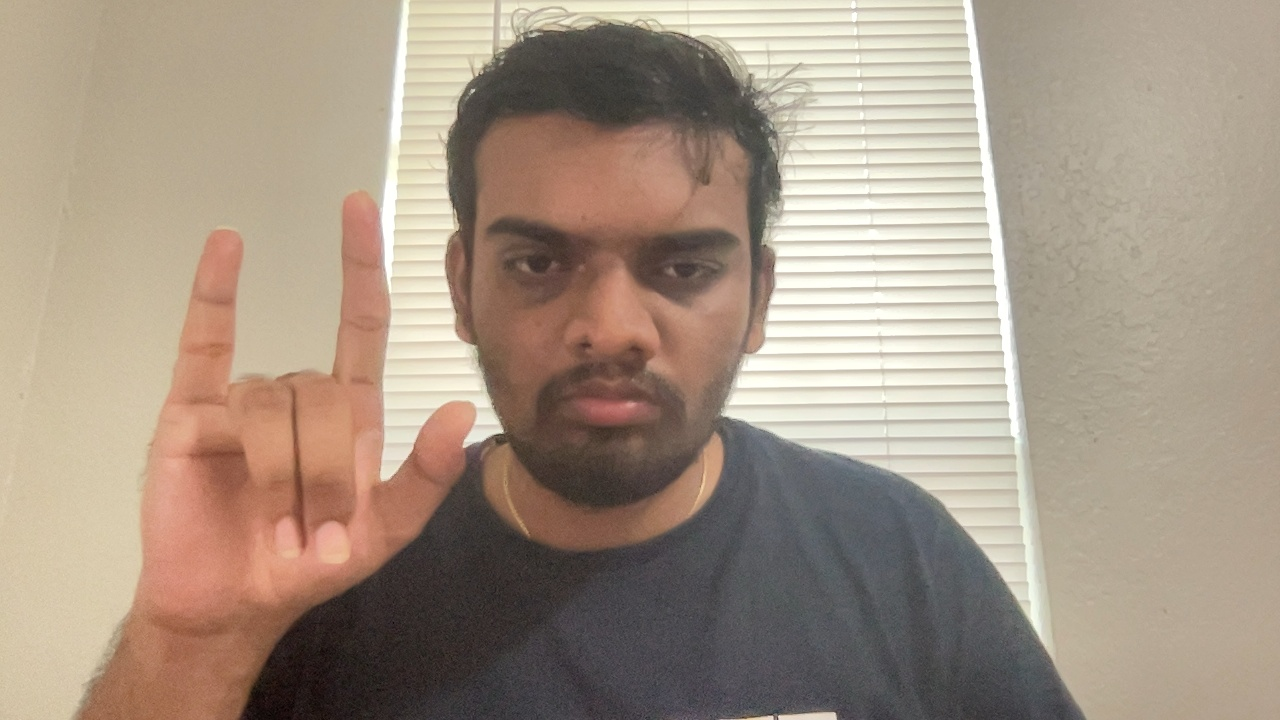i love you: (130, 191, 478, 631)
